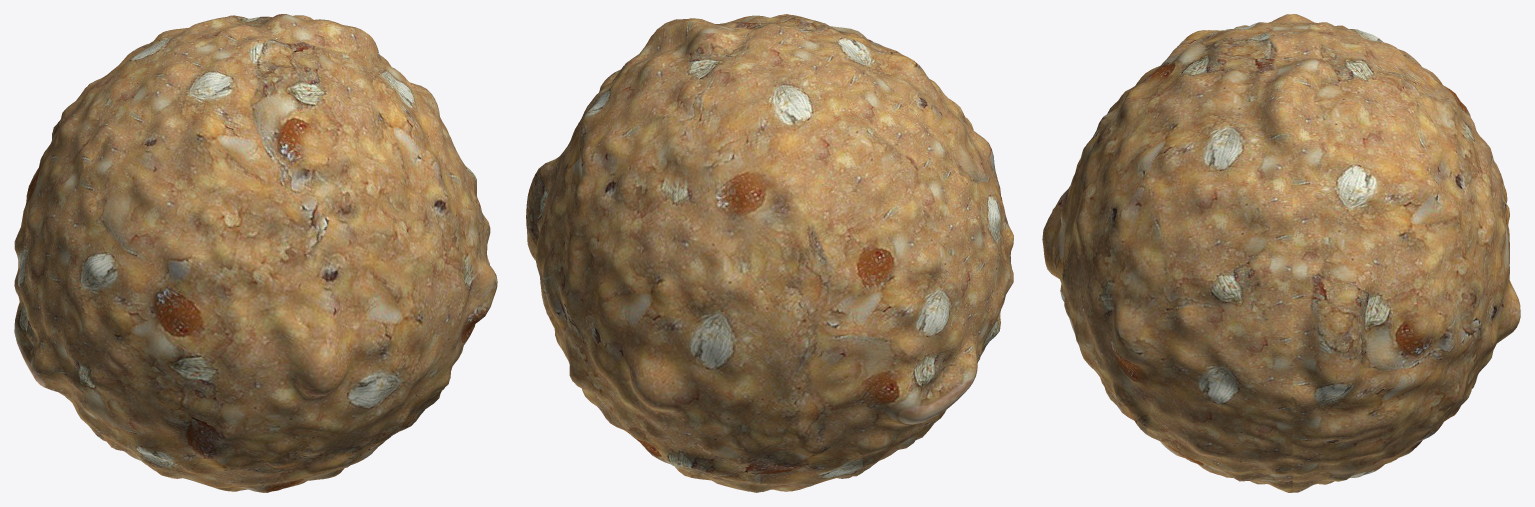
The model's file is tirupathi_laddu.glb.
3 renders of one model, left to right at view 1: azimuth 30°, elevation 25°; view 2: azimuth 150°, elevation 25°; view 3: azimuth 270°, elevation 25°, orthographic.
Visible parts, largest first — view 1: Laddu; view 2: Laddu; view 3: Laddu.
Part boxes in pixels (x1,y1,x2,y2): Laddu: (14,14,497,492); Laddu: (526,14,1013,492); Laddu: (1042,14,1520,492).
Bounding box in the file's own units: 2.1 × 2.06 × 2.04.
Materials: 1 (1 with a texture image).
